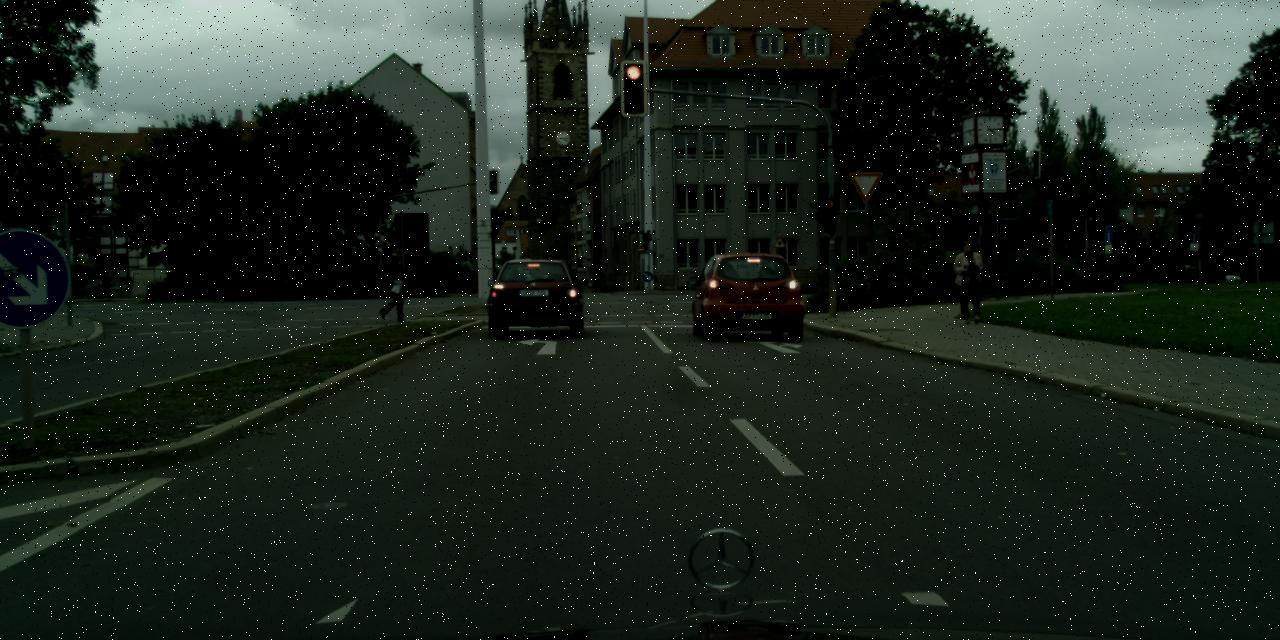ped: (953, 240, 987, 322), (376, 241, 409, 320), (100, 270, 112, 300), (466, 268, 476, 293), (1262, 256, 1272, 280)
